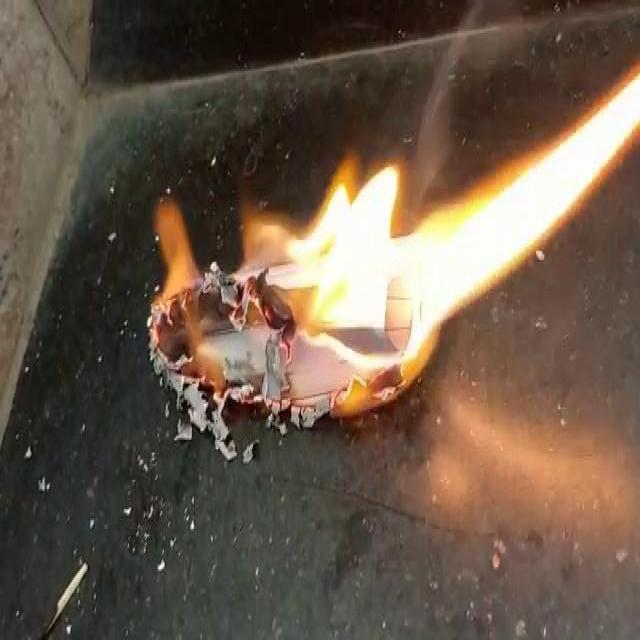Fire: (293, 70, 640, 344)
